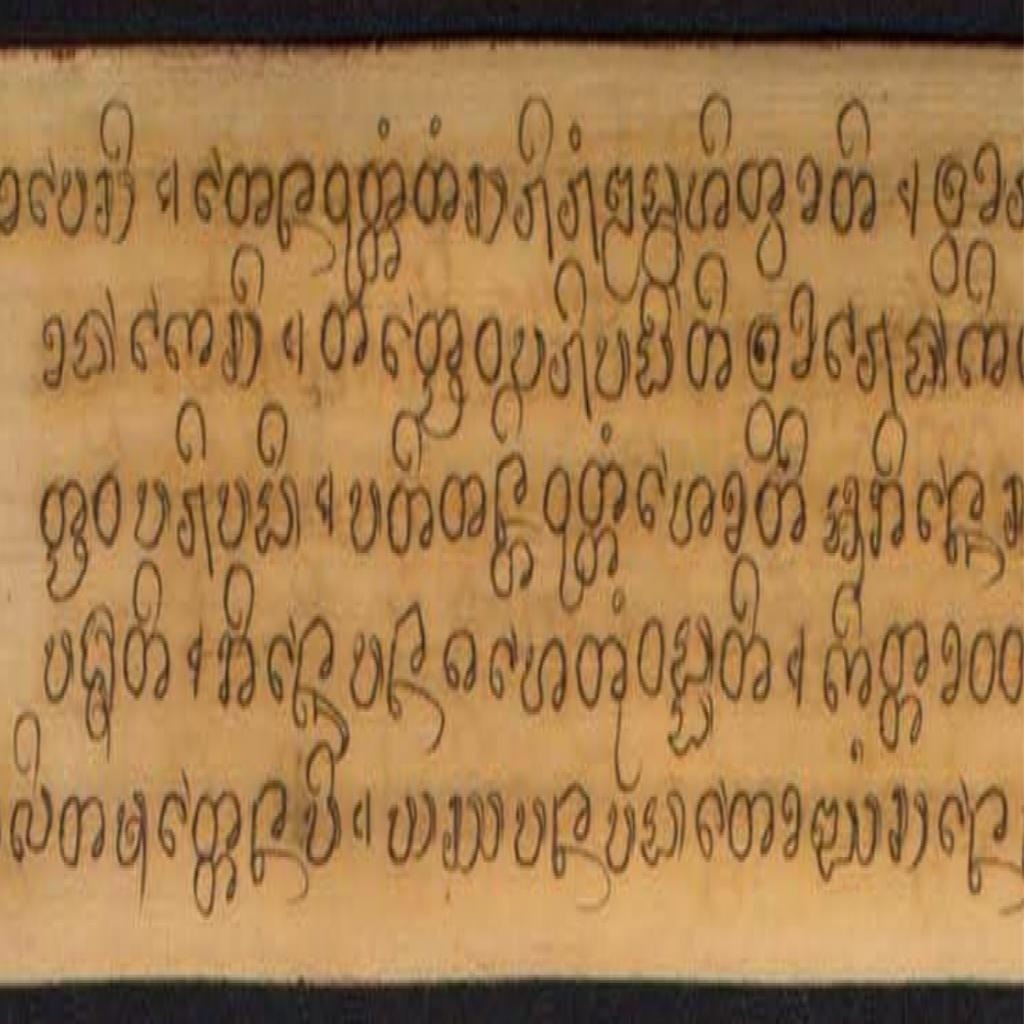LN001: (162, 301, 217, 382)
LN004: (809, 786, 882, 895)
LN024: (511, 787, 549, 878)
LN031: (115, 782, 152, 925)
